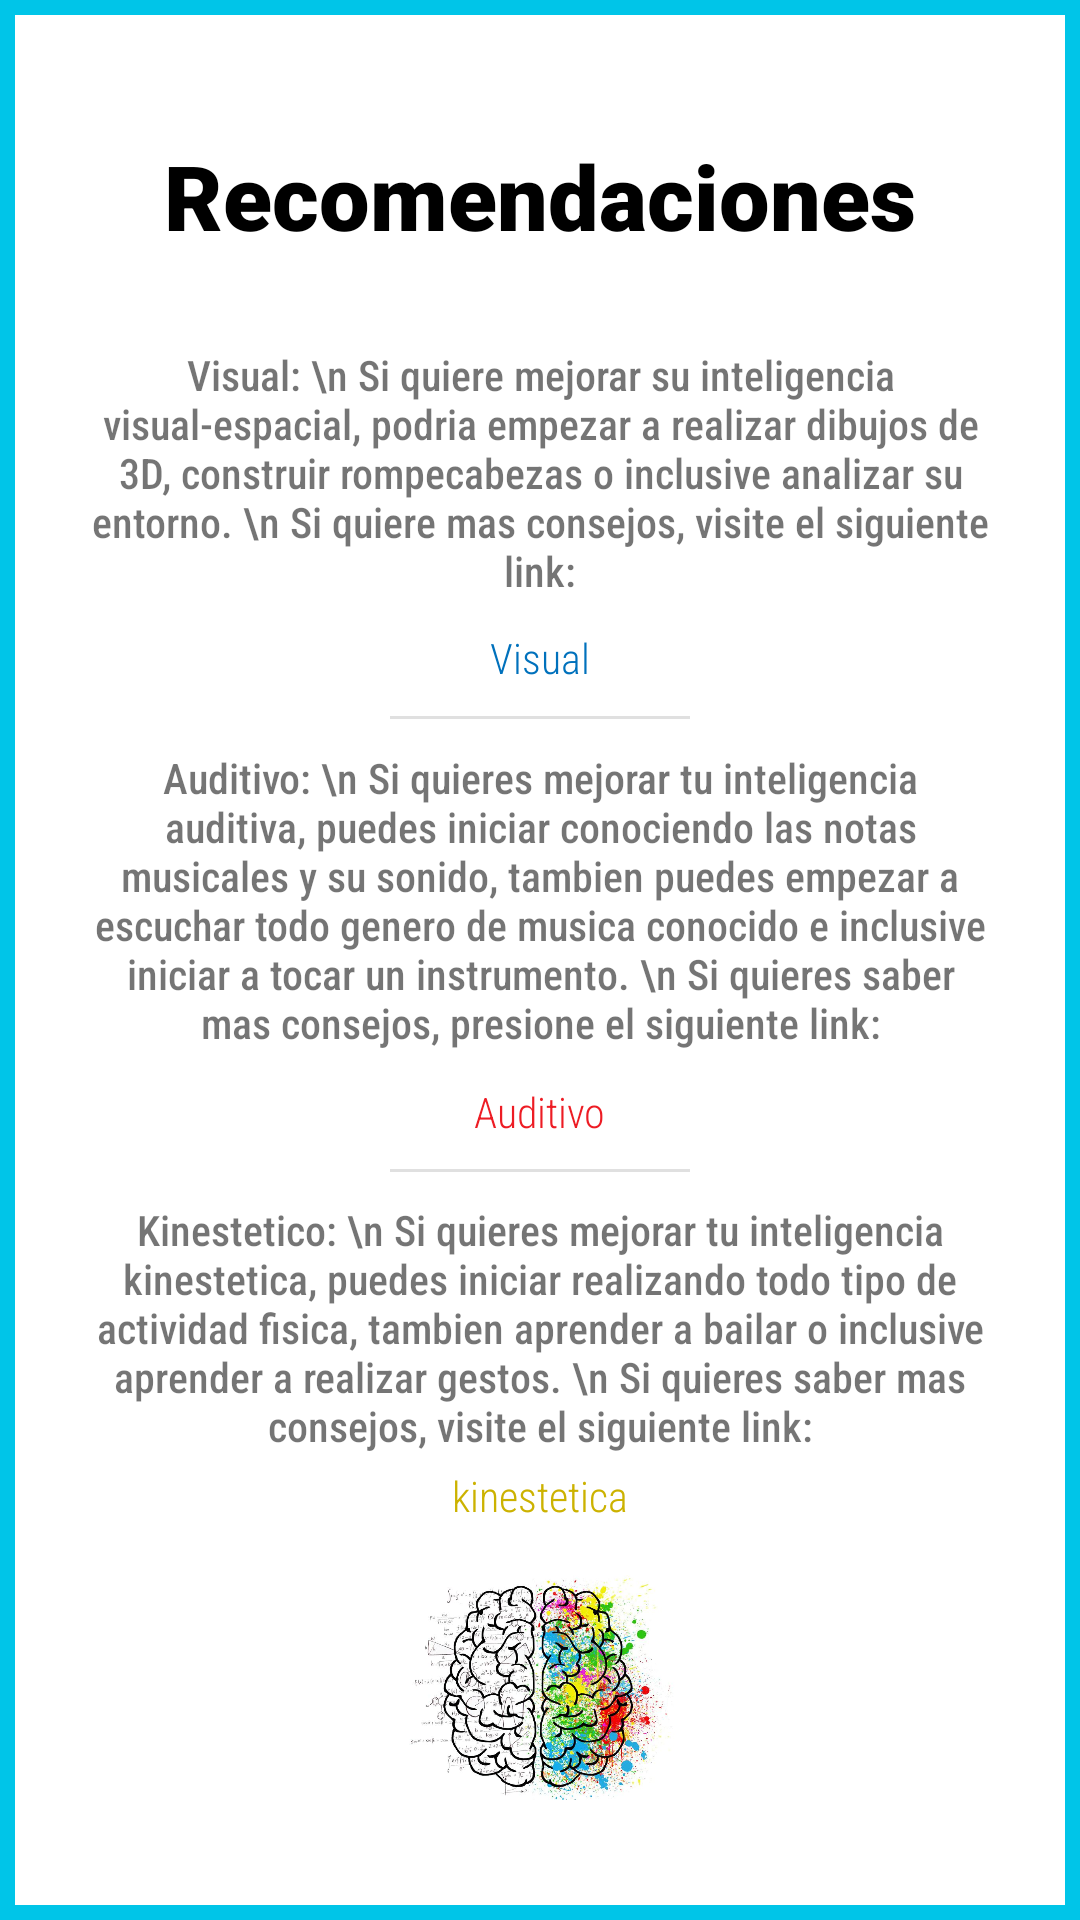

Where icons sit on this 1080 x 1920 app screen, as (x1, y1, x2, y2):
cerebro: (411, 1578, 670, 1800)
